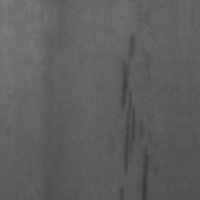inclusion: (114, 31, 148, 199), (132, 141, 155, 199)
